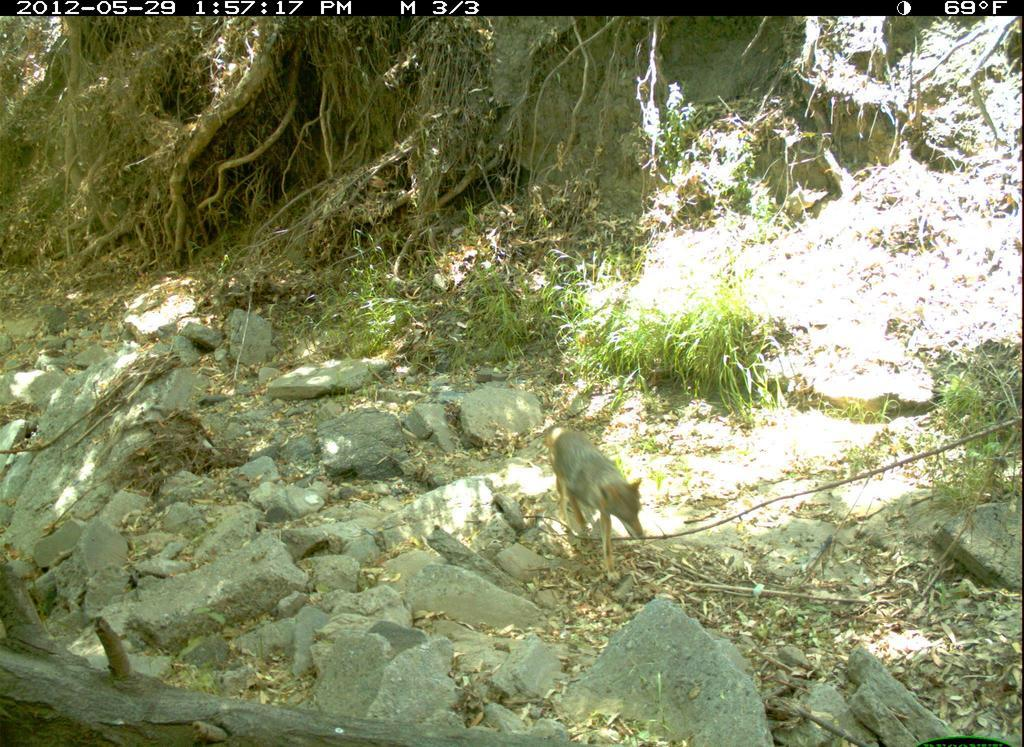coyote: (536, 414, 680, 593)
